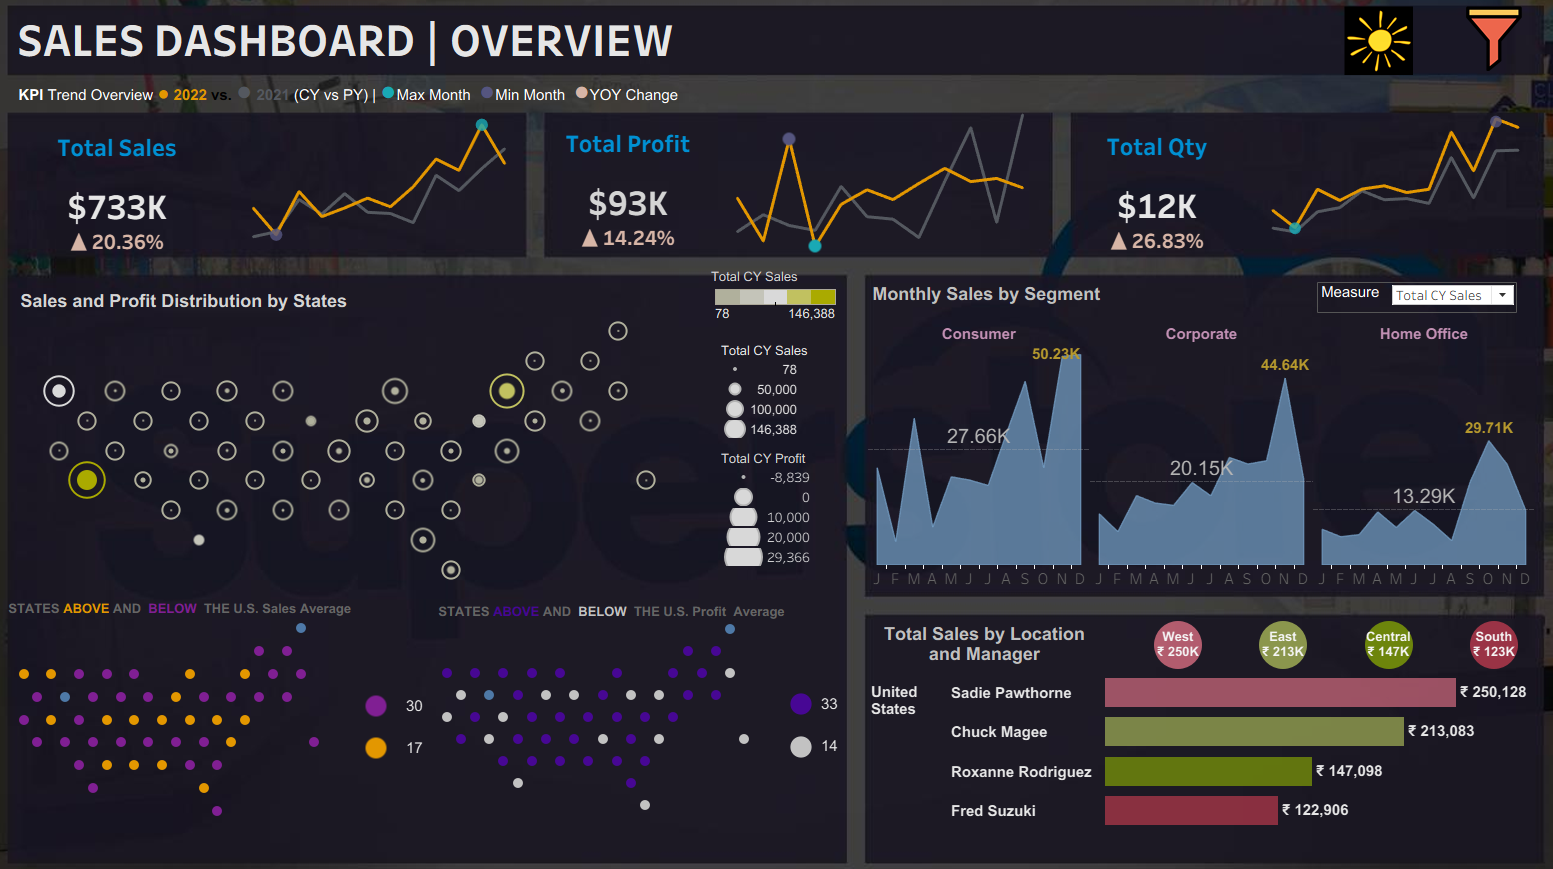

Layout of this report page (visuals, bound fields, positions):
{"tool":"tableau","page":{"name":"Sales Dashboard","canvas":[1600,900],"ordinal":0},"visuals":[{"type":"image","param":"C:/Users/kayal/Downloads/Sales Dashboard Background.pptx.jpg","box":[8,8,1584,884]},{"type":"text","box":[37,21,874,67]},{"type":"dashboard-object","box":[1343,22,117,69]},{"type":"dashboard-object","box":[1473,22,86,65]},{"type":"filter","title":"Sales and Profit by  States","param":"[federated.0etjity19ju87y19qncp217k6gx5].[none:Category:nk]","box":[1349,73,163,61]},{"type":"text","box":[38,87,715,41]},{"type":"worksheet","title":"Profit  KPI ","mark":"Automatic","box":[569,122,163,148]},{"type":"worksheet","title":"Profit sparkline ","mark":"Automatic","rows":[" mini Max Month Sales (copy)_1067681626767375"],"cols":["Order Date"],"box":[734,122,337,147]},{"type":"worksheet","title":"Qty KPI","mark":"Automatic","box":[1090,126,180,145]},{"type":"worksheet","title":"Qty sparkline ","mark":"Automatic","rows":[" mini Max Month Profit  (copy)_1067681630842896"],"cols":["Order Date"],"box":[1273,126,290,144]},{"type":"worksheet","title":"Sales KPI","mark":"Automatic","box":[32,127,216,145]},{"type":"worksheet","title":"sales sparkline","mark":"Automatic","rows":["Calculation_1067681617719309"],"cols":["Order Date"],"box":[253,129,297,144]},{"type":"filter","title":"Sales and Profit by  States","param":"[federated.0etjity19ju87y19qncp217k6gx5].[none:Ship Mode:nk]","box":[1349,134,163,61]},{"type":"filter","title":"Sales and Profit by  States","param":"[federated.0etjity19ju87y19qncp217k6gx5].[none:Region:nk]","box":[1349,195,163,61]},{"type":"legend","title":"Sales and Profit by  States","param":"[federated.0etjity19ju87y19qncp217k6gx5].[sum:Calculation_1067681599631360:qk]","box":[734,285,129,60]},{"type":"text","box":[892,295,301,30]},{"type":"parameter","param":"[Parameters].[Parameter 1]","box":[1340,298,200,31]},{"type":"text","box":[40,302,344,30]},{"type":"worksheet","title":"Sales and Profit by  States","mark":"Circle","rows":["Row"],"cols":["Column","Column"],"box":[38,317,670,299]},{"type":"worksheet","title":"Monthly Sales by Segment ","mark":"Area","rows":["Calculation_1119633814310913"],"cols":["Segment","Order Date"],"box":[891,340,667,266]},{"type":"legend","title":"Sales and Profit by  States","param":"[federated.0etjity19ju87y19qncp217k6gx5].[sum:Calculation_1067681599631360:qk]","box":[744,359,124,98]},{"type":"legend","title":"Sales and Profit by  States","param":"[federated.0etjity19ju87y19qncp217k6gx5].[sum:Total CY Sales (copy)_106768160868","box":[744,467,125,125]},{"type":"text","box":[28,610,395,30]},{"type":"text","box":[458,613,407,30]},{"type":"worksheet","title":"Avg Sales by States","mark":"Circle","rows":["Row"],"cols":["Column"],"box":[27,621,330,229]},{"type":"worksheet","title":"Avg Profit  by States (2)","mark":"Circle","rows":["Row"],"cols":["Column"],"box":[450,623,337,220]},{"type":"text","box":[893,636,229,49]},{"type":"worksheet","title":"Region Wise Sales ","mark":"Circle","cols":["Region"],"box":[1148,637,422,48]},{"type":"worksheet","title":"Total Sales by Location and Manager","mark":"Automatic","rows":["Country/Region","Regional Manager"],"cols":["Calculation_1067681599631360"],"box":[888,689,684,157]},{"type":"worksheet","title":"Sheet 11 (2)","mark":"Circle","rows":["Sales Avg Color (copy)_0874442676617223"],"box":[784,699,80,85]},{"type":"worksheet","title":"Sheet 11","mark":"Circle","rows":["Calculation_0874442673508358"],"box":[349,701,100,84]}]}

Visuals, with their boxes in screenshot pixels (x1, y1, x2, y2), scaled from the page's 1600x900 canvas onto the 1553x869 screenshot:
image: l=8, t=8, r=1545, b=861
text: l=36, t=20, r=884, b=85
dashboard-object: l=1304, t=21, r=1417, b=88
dashboard-object: l=1430, t=21, r=1513, b=84
"Sales and Profit by  States" filter: l=1309, t=70, r=1468, b=129
text: l=37, t=84, r=731, b=124
"Profit  KPI " worksheet: l=552, t=118, r=710, b=261
"Profit sparkline " worksheet: l=712, t=118, r=1040, b=260
"Qty KPI" worksheet: l=1058, t=122, r=1233, b=262
"Qty sparkline " worksheet: l=1236, t=122, r=1517, b=261
"Sales KPI" worksheet: l=31, t=123, r=241, b=263
"sales sparkline" worksheet: l=246, t=125, r=534, b=264
"Sales and Profit by  States" filter: l=1309, t=129, r=1468, b=188
"Sales and Profit by  States" filter: l=1309, t=188, r=1468, b=247
"Sales and Profit by  States" legend: l=712, t=275, r=838, b=333
text: l=866, t=285, r=1158, b=314
parameter: l=1301, t=288, r=1495, b=318
text: l=39, t=292, r=373, b=321
"Sales and Profit by  States" worksheet (Circle marks): l=37, t=306, r=687, b=595
"Monthly Sales by Segment " worksheet (Area marks): l=865, t=328, r=1512, b=585
"Sales and Profit by  States" legend: l=722, t=347, r=843, b=441
"Sales and Profit by  States" legend: l=722, t=451, r=843, b=572
text: l=27, t=589, r=411, b=618
text: l=445, t=592, r=840, b=621
"Avg Sales by States" worksheet (Circle marks): l=26, t=600, r=347, b=821
"Avg Profit  by States (2)" worksheet (Circle marks): l=437, t=602, r=764, b=814
text: l=867, t=614, r=1089, b=661
"Region Wise Sales " worksheet (Circle marks): l=1114, t=615, r=1524, b=661
"Total Sales by Location and Manager" worksheet: l=862, t=665, r=1526, b=817
"Sheet 11 (2)" worksheet (Circle marks): l=761, t=675, r=839, b=757
"Sheet 11" worksheet (Circle marks): l=339, t=677, r=436, b=758
